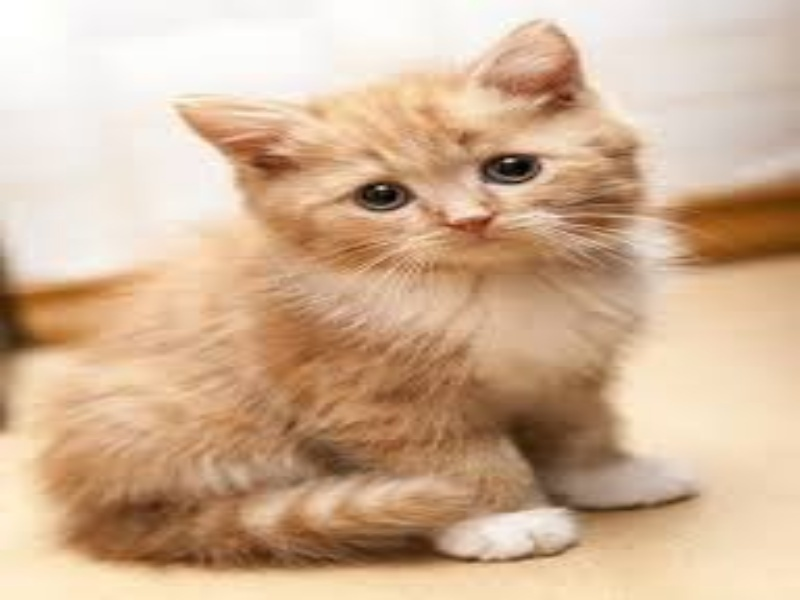cat: (18, 19, 708, 564)
